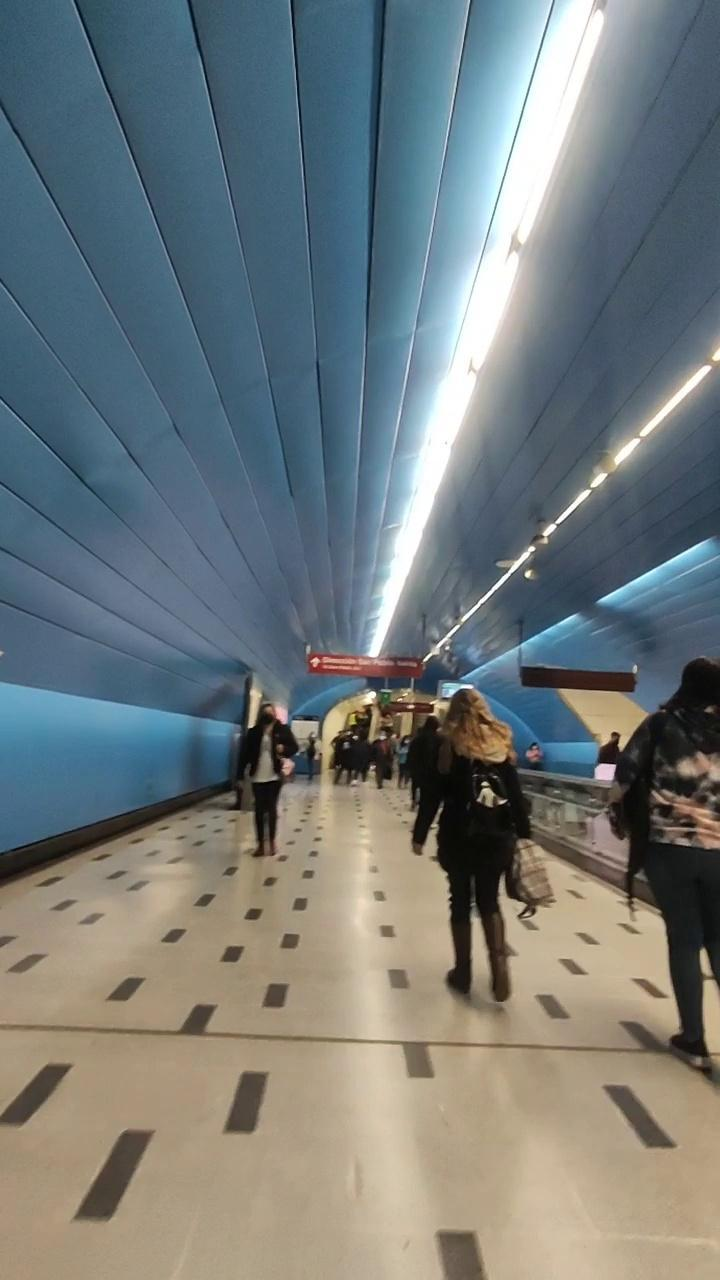up arrow: (310, 655, 323, 671)
